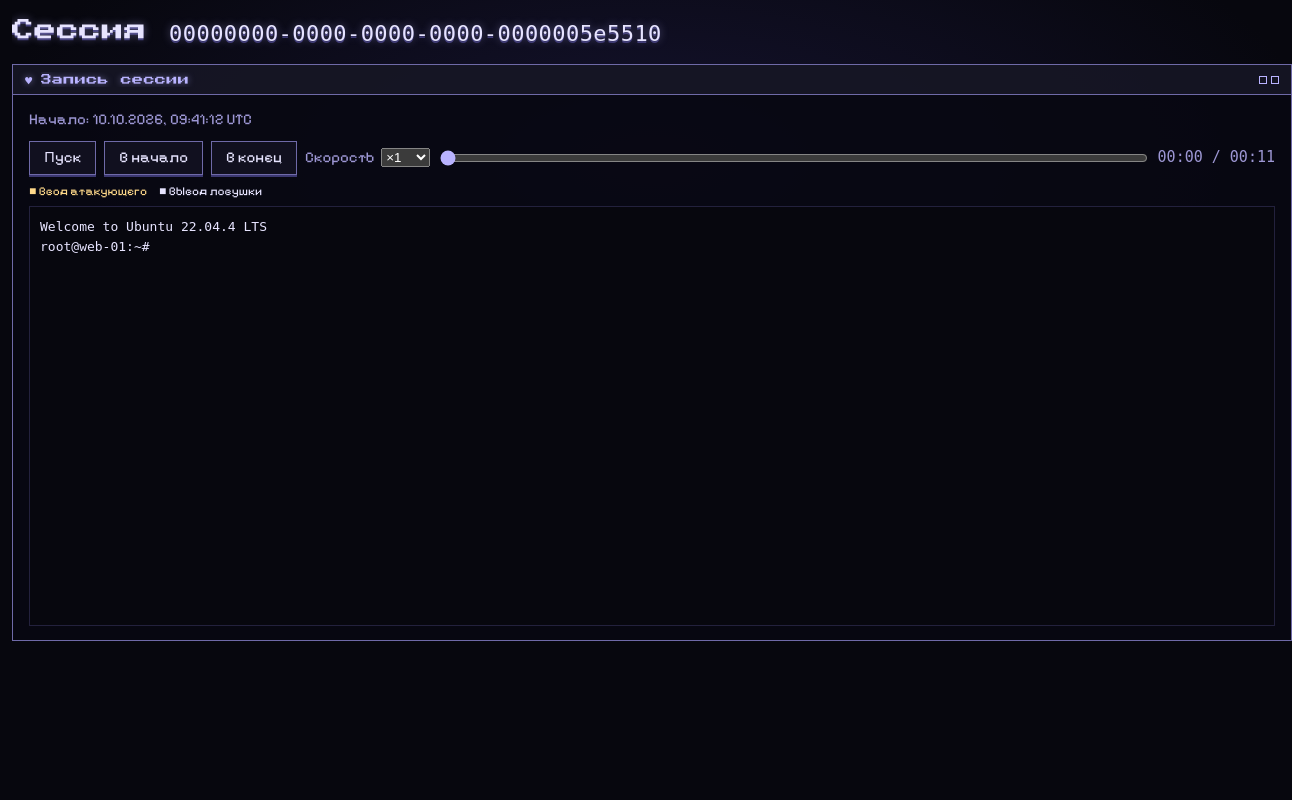
Scenario: экран записи сессии (F15) › reduced-motion: без автопуска; «В конец» показывает весь текст без управляющих последовательностей
The image size is (1292, 800).
Expected: the button "Пуск" is shown, [29,141,96,175]
Click the button "В конец": coordinates (254, 158) [211,141,297,175]
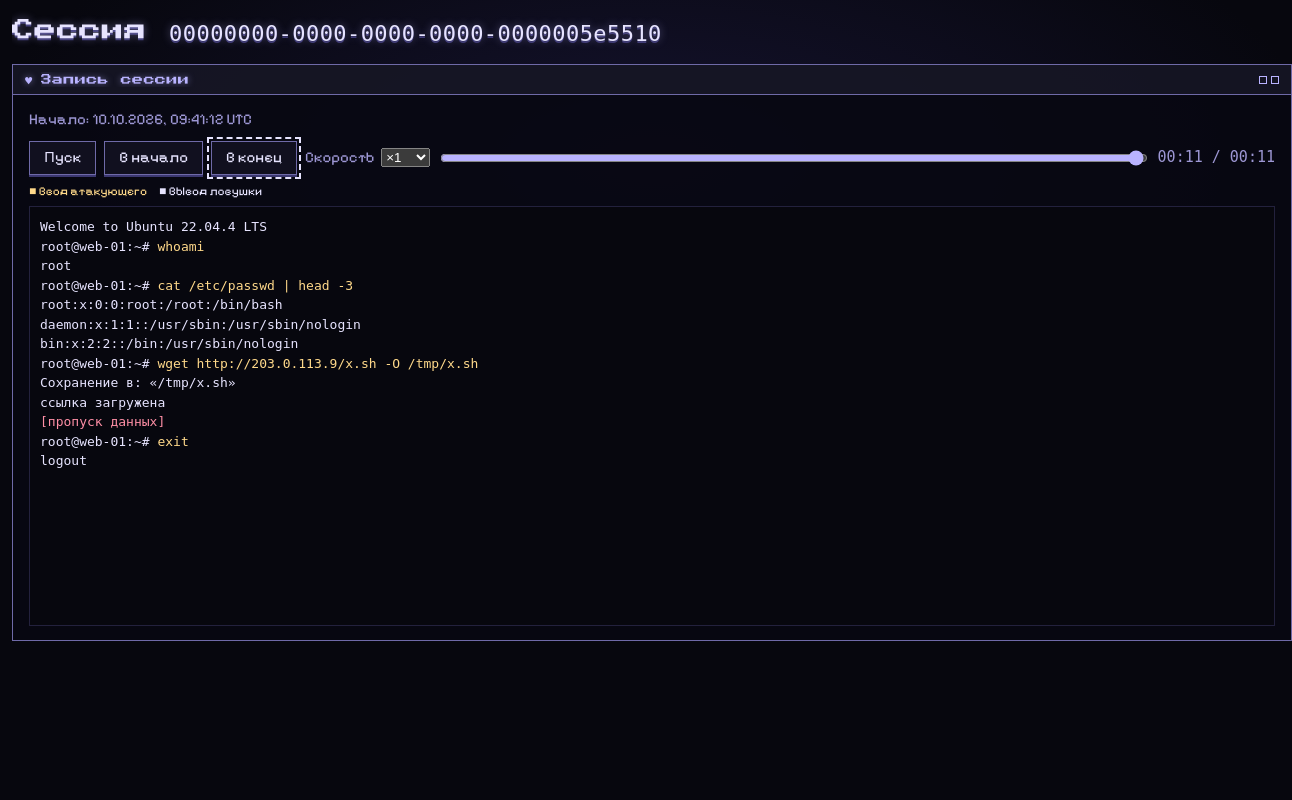
Now the element named "Текст записи" shows "whoami", box [157,239,204,254]
Now the element named "Текст записи" shows "Сохранение в: «/tmp/x.sh»", box [40,375,236,410]
Now the element named "Текст записи" shows "logout", box [40,453,87,468]
